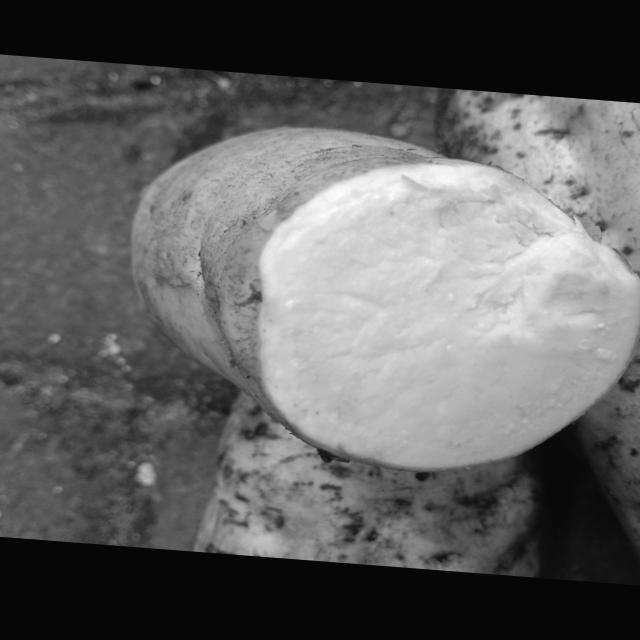Healthy Sweet Potato: (260, 164, 638, 470)
